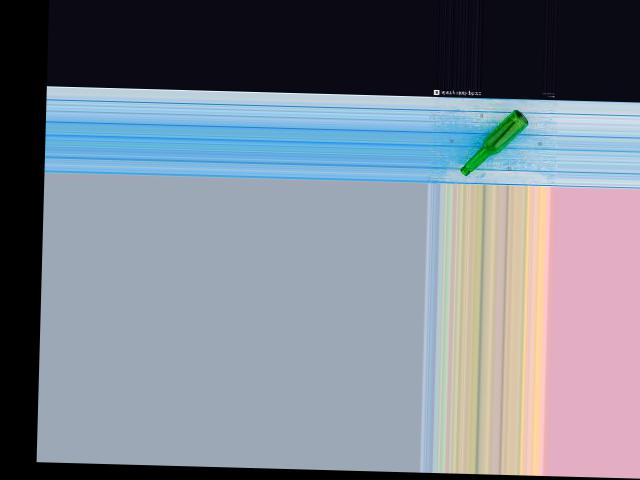beer: (460, 107, 530, 177)
